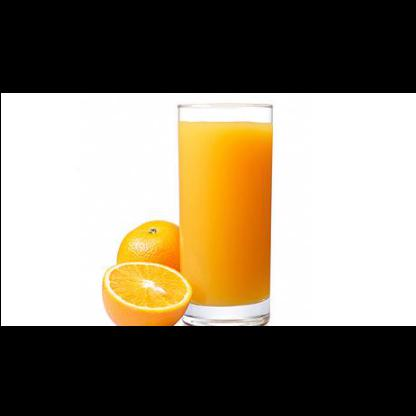orange juice: (176, 117, 272, 305)
